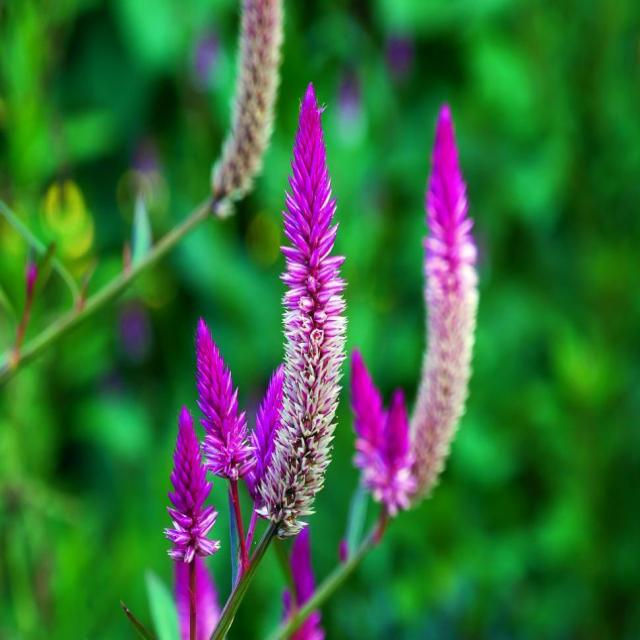Celosia-Argentea: (350, 102, 481, 521), (255, 80, 349, 541), (194, 314, 257, 481), (162, 403, 222, 564)
